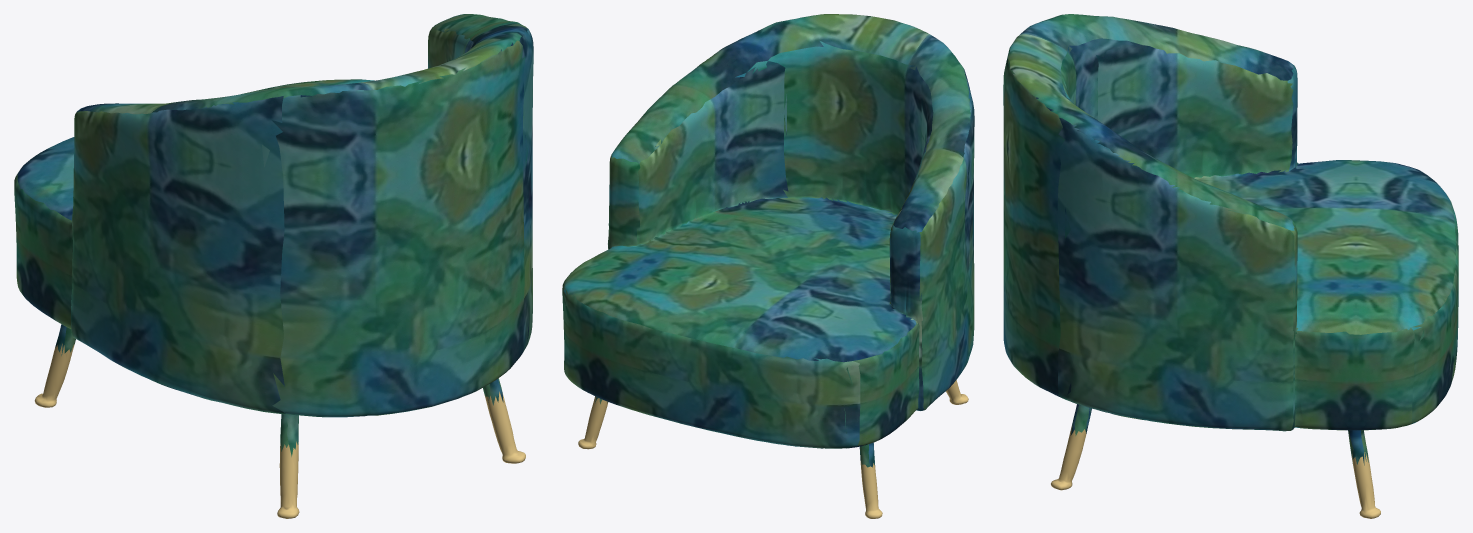
The model's file is fauteuil.glb.
3 views of the same model, side by side, from view 1: azimuth 30°, elevation 25°; view 2: azimuth 150°, elevation 25°; view 3: azimuth 270°, elevation 25° (orthographic). The views are drawn at different scales.
Parts seen in each view (by area): view 1: world; view 2: world; view 3: world.
Part boxes in pixels (<box>): world: <box>14,14,533,518</box>; world: <box>562,14,974,518</box>; world: <box>1003,14,1458,518</box>.
Size of the model in its own units: 0.7851 by 0.8 by 0.8625.
2 materials, 1 textured.
